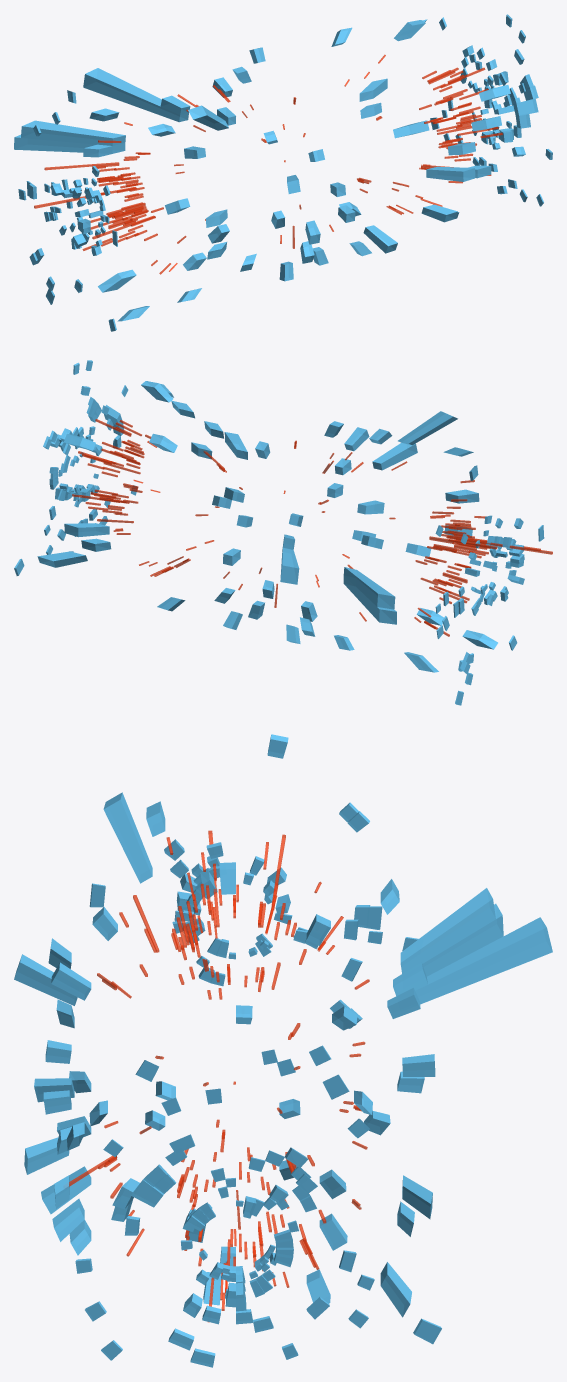
The model's file is Event_17758602_calo.fbx.
The picture shows the model from 3 angles, top to bottom: view 1: azimuth 30°, elevation 25°; view 2: azimuth 150°, elevation 25°; view 3: azimuth 270°, elevation 25°; orthographic projection. The views are drawn at different scales.
Parts seen in each view (by area): view 1: Model; view 2: Model; view 3: Model.
Boxes of the visible parts, <box> form: Model: <box>14,14,552,331</box>; Model: <box>14,360,552,705</box>; Model: <box>14,734,552,1367</box>.
Size of the model in its own units: 25.2 by 11.19 by 14.86.
